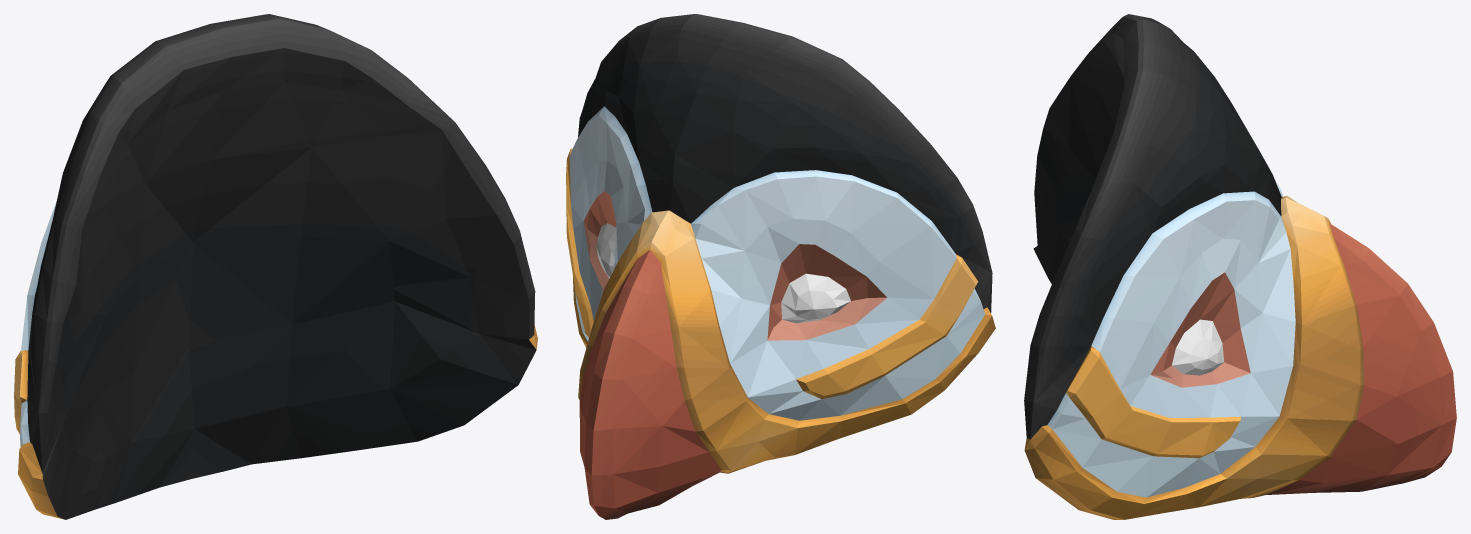
The model's file is CharSkyKid_Mask_AP30Puffin.glb.
3 views of the same model, side by side, from view 1: azimuth 30°, elevation 25°; view 2: azimuth 150°, elevation 25°; view 3: azimuth 270°, elevation 25° (orthographic). The views are drawn at different scales.
Visible parts, largest first — view 1: CharSkyKid_Mask_AP30Puffin; view 2: CharSkyKid_Mask_AP30Puffin; view 3: CharSkyKid_Mask_AP30Puffin.
Part boxes in pixels (x1,y1,x2,y2): CharSkyKid_Mask_AP30Puffin: (14, 14, 537, 519); CharSkyKid_Mask_AP30Puffin: (566, 14, 995, 519); CharSkyKid_Mask_AP30Puffin: (1024, 14, 1456, 519).
Size of the model in its own units: 2.46 by 2.27 by 2.02.
Materials: 1 (1 with a texture image).
